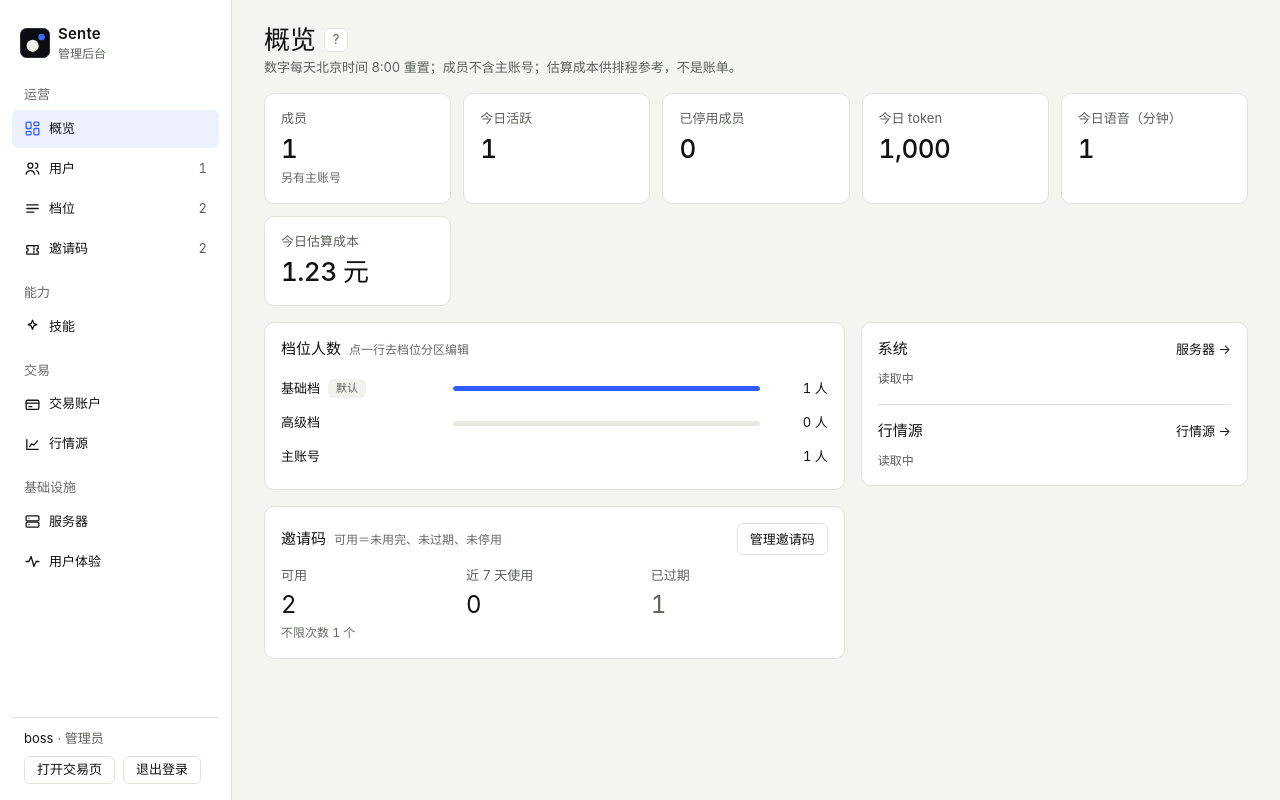
it: 管理员：顶栏带账号与交易页链接；概览 tiles、档位/邀请码跳转、导航计数
Expected: the text "boss" is shown, x1=24 y1=730 x2=54 y2=748
Expected: the text "今日 token" is shown, x1=879 y1=110 x2=942 y2=126
邀请码卡片的「管理邀请码」直达邀请码分区。
Click the button "管理邀请码". click: {"x": 782, "y": 539}
box: x1=737 y1=523 x2=828 y2=555
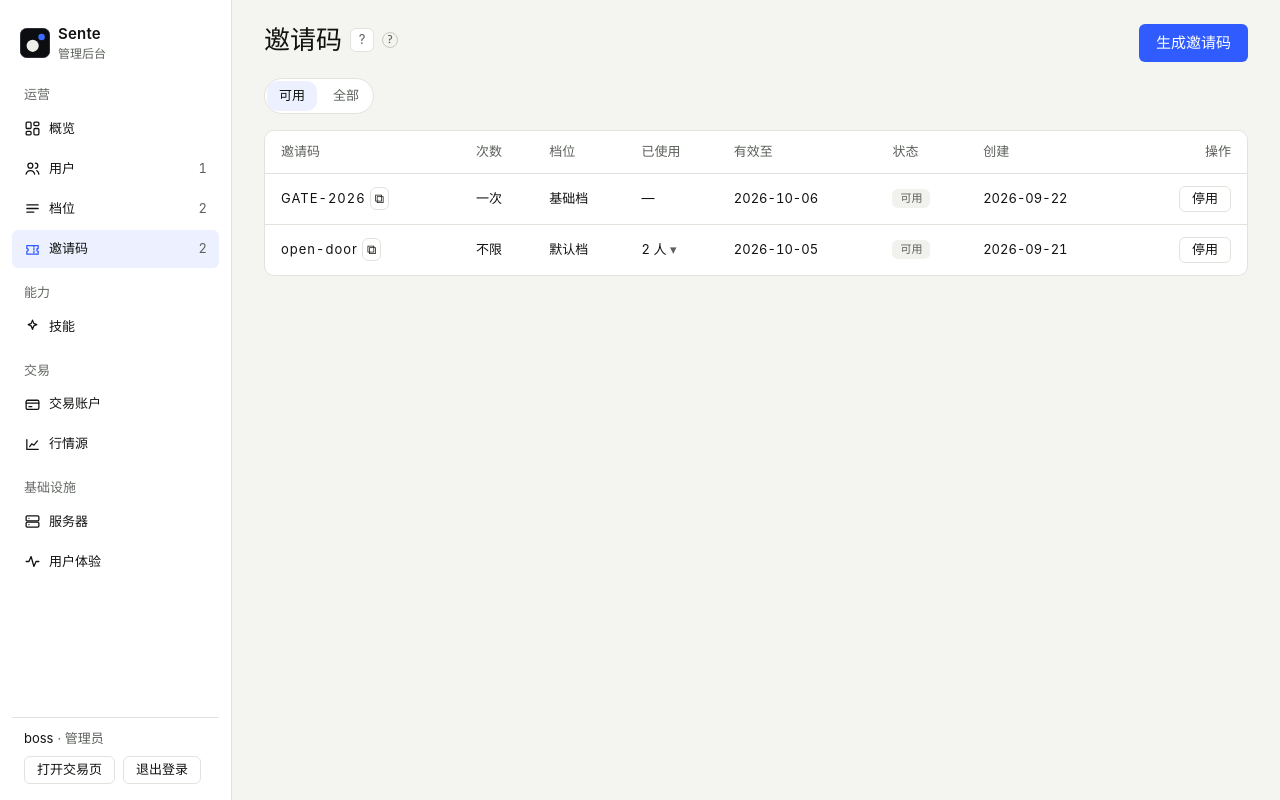
Result: the table named "邀请码列表" is shown at x1=265 y1=131 x2=1247 y2=274
档位人数行可点：回概览后直达档位分区并选中该档。
Click the button "概览". click: {"x": 116, "y": 129}
box: x1=12 y1=110 x2=219 y2=148
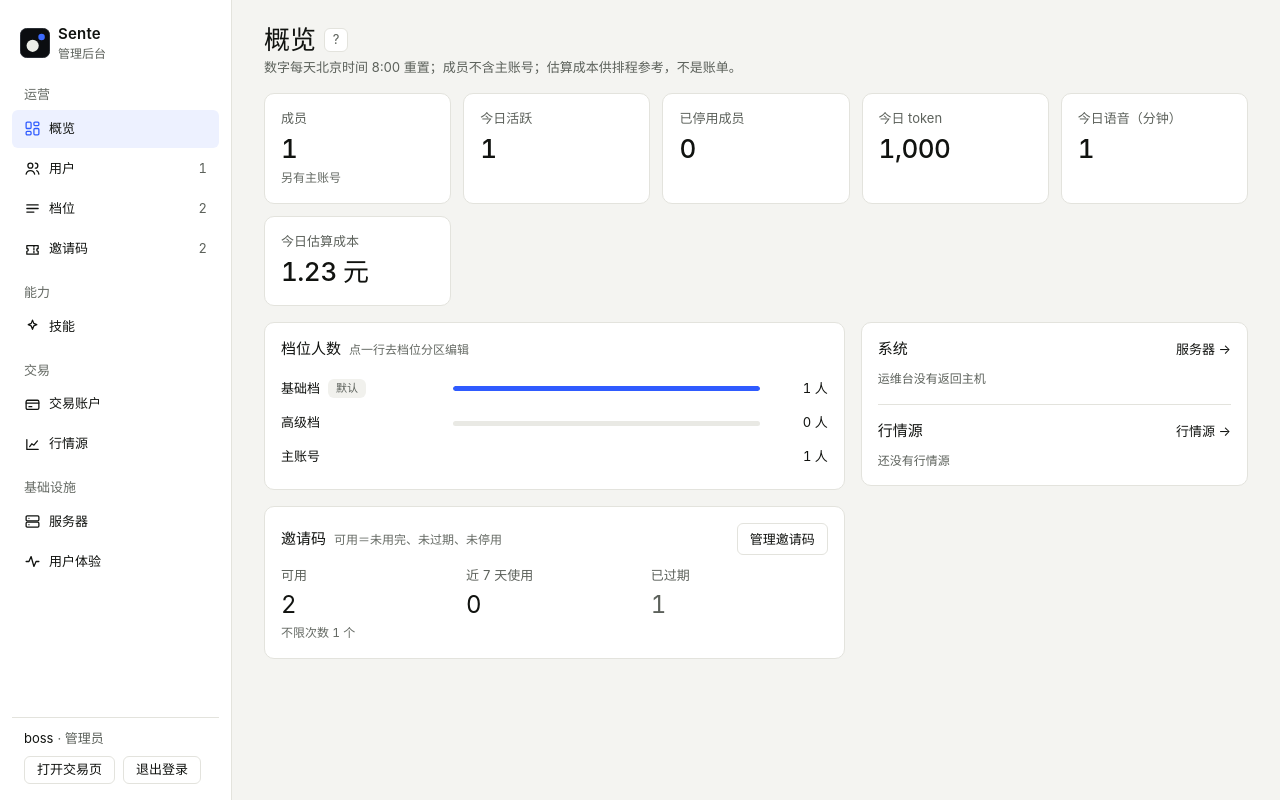
Result: the text "今日 token" is shown at x1=879 y1=110 x2=942 y2=126
Click the button "基础档 默认 1 人". click: {"x": 554, "y": 389}
box: x1=281 y1=372 x2=828 y2=406
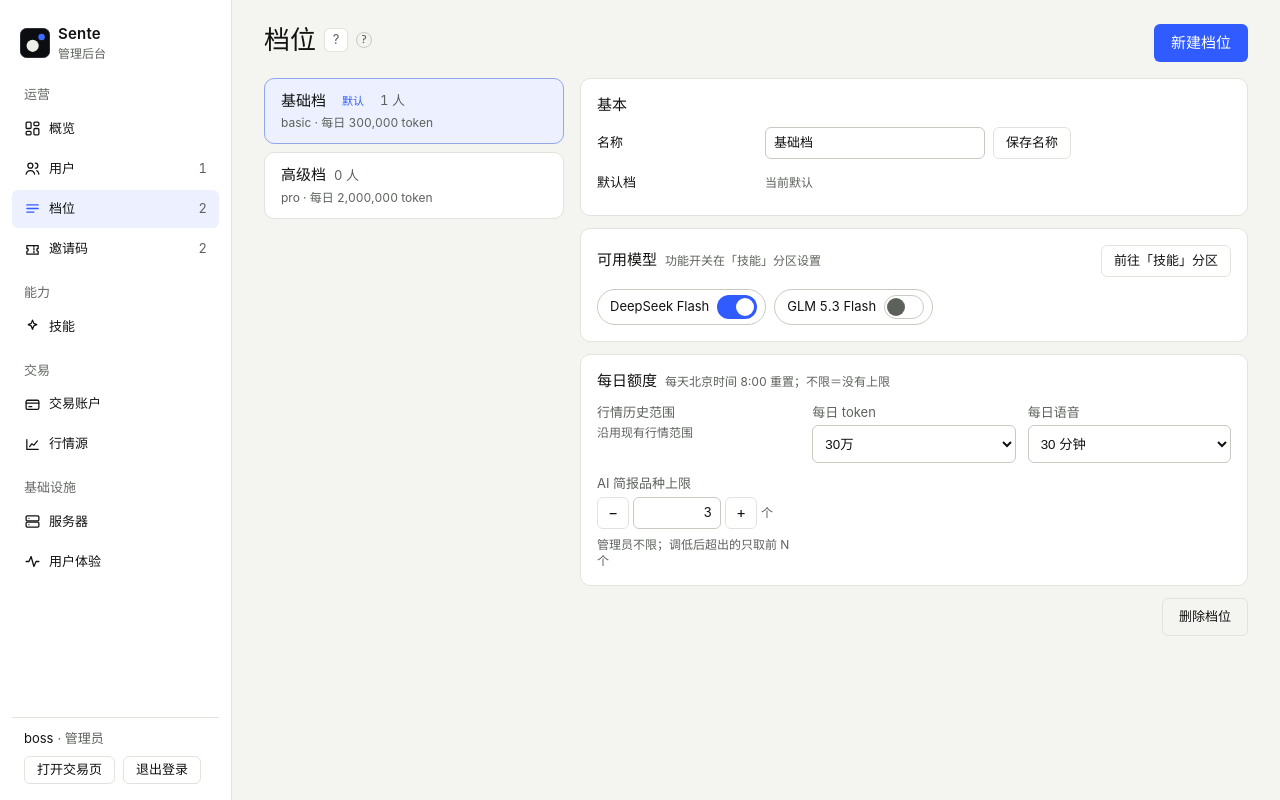
Result: the dropdown named "基础档 每日 token" is shown at x1=812 y1=425 x2=1016 y2=463
